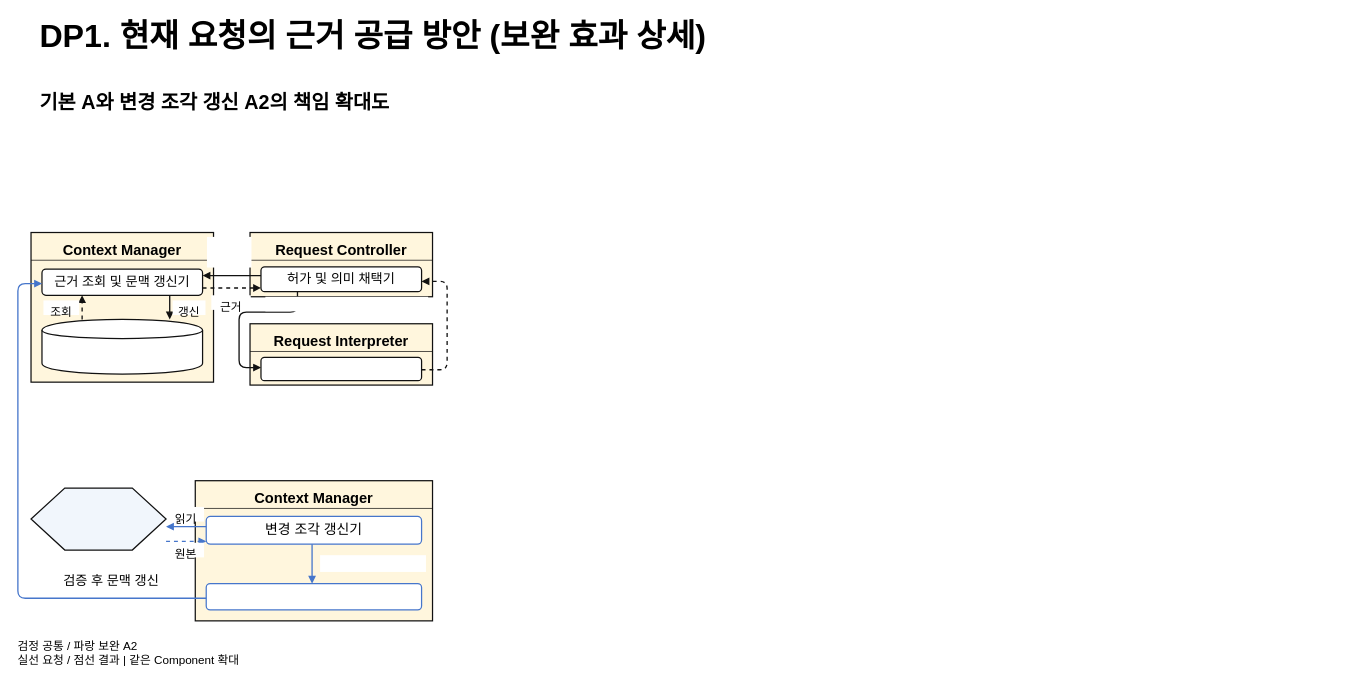
Image size: 1365x680. Some labels were removed from this diagram. The centre of each missing label's shape, as x and y in pixels:
요청 의미 해석기: [341,368]
원본 소유자 (VIA 내부) 변경 판본 v1 → v2: [98,518]
유효 작업 문맥 출처 / 의존 판본 (대화 수명): [122,346]
전체 근거 판본 검증기: [313,596]
전체 현재성 재검사: [373,563]
조회 허가 채택 후 갱신: [229,252]
현재 입력 + 유효 근거: [346,303]
